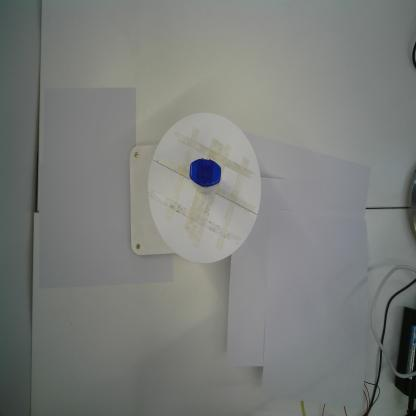Personal Hygiene: (188, 157, 223, 195)
